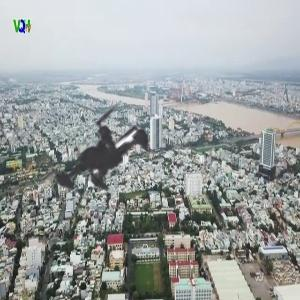drone: (9, 63, 211, 265)
